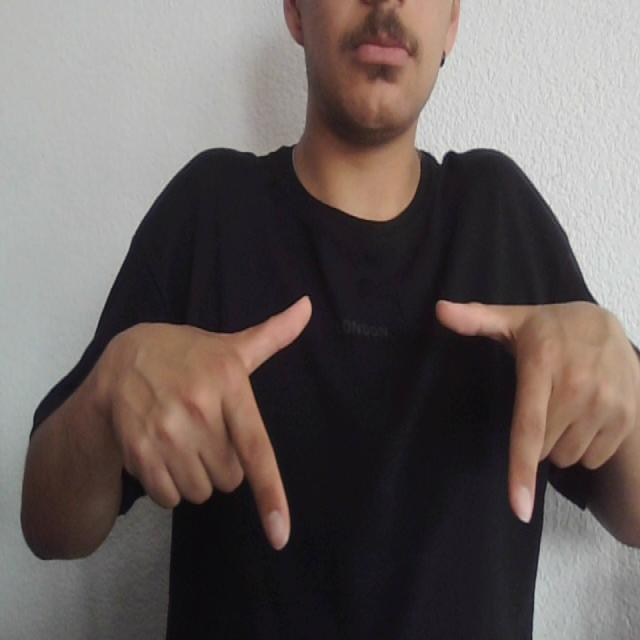Nerede: (226, 280, 553, 562)
